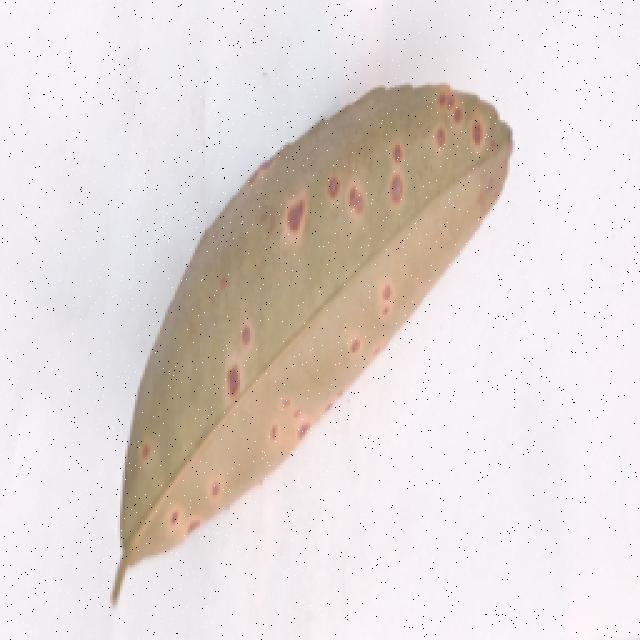canker: (68, 81, 514, 604)
